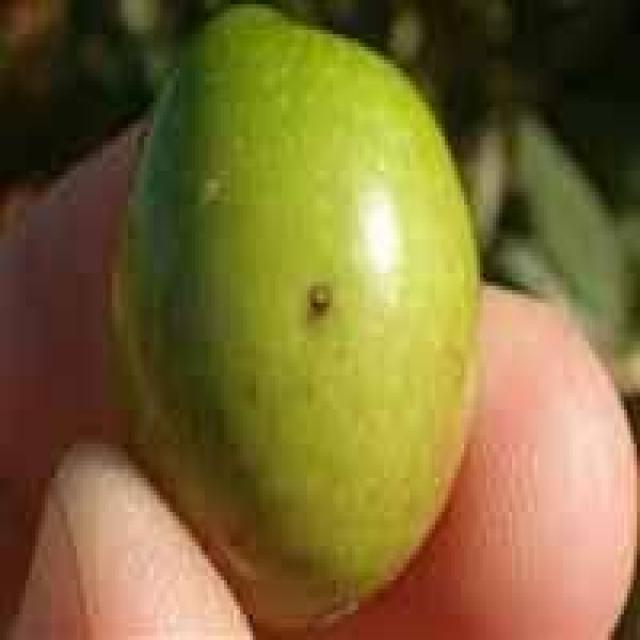Anthracnose: (119, 4, 476, 623)
